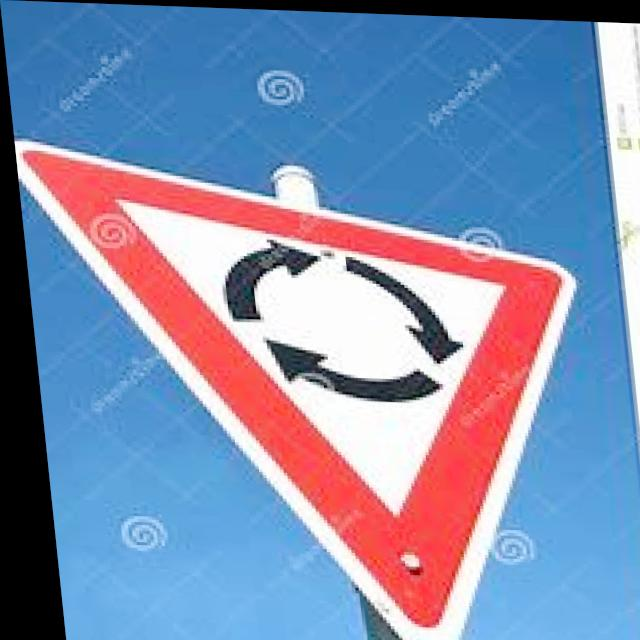ROUNDABOUT: (11, 132, 600, 640)
